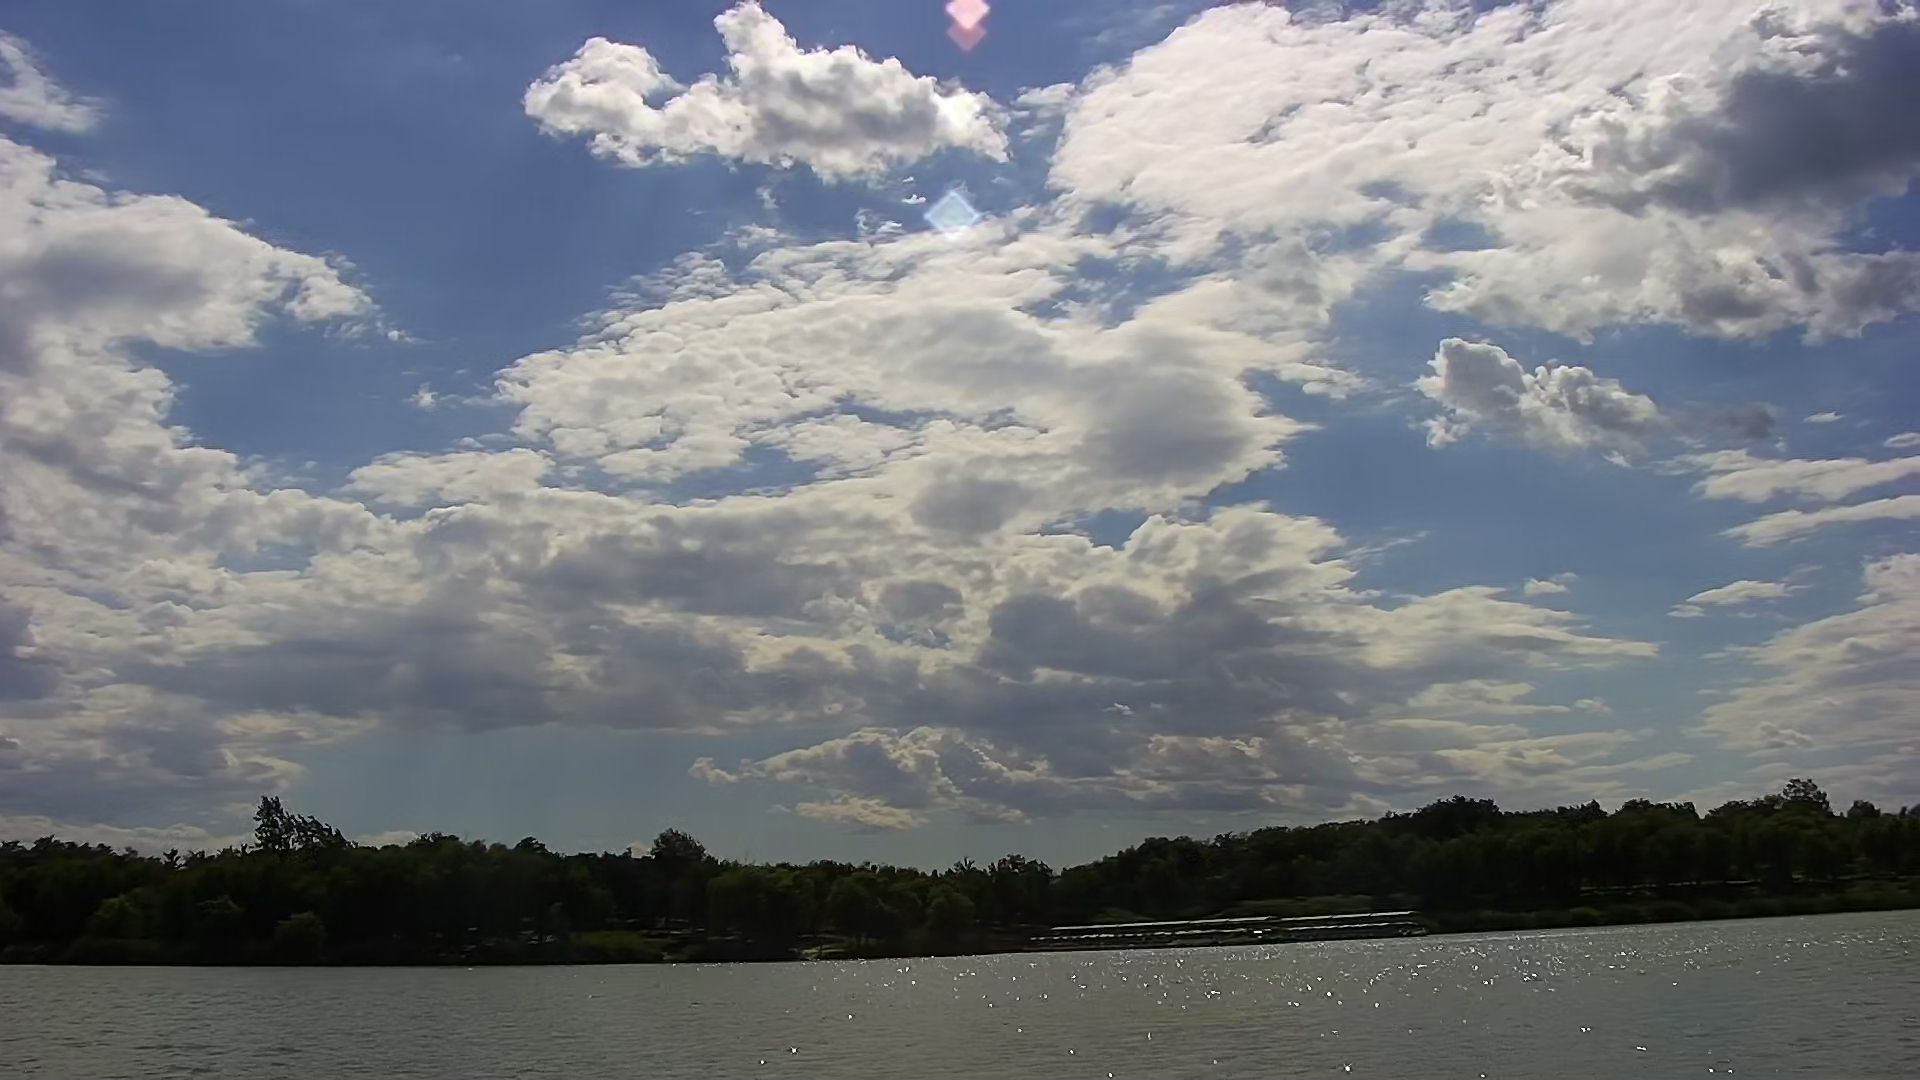harbor: (1060, 909, 1415, 948)
